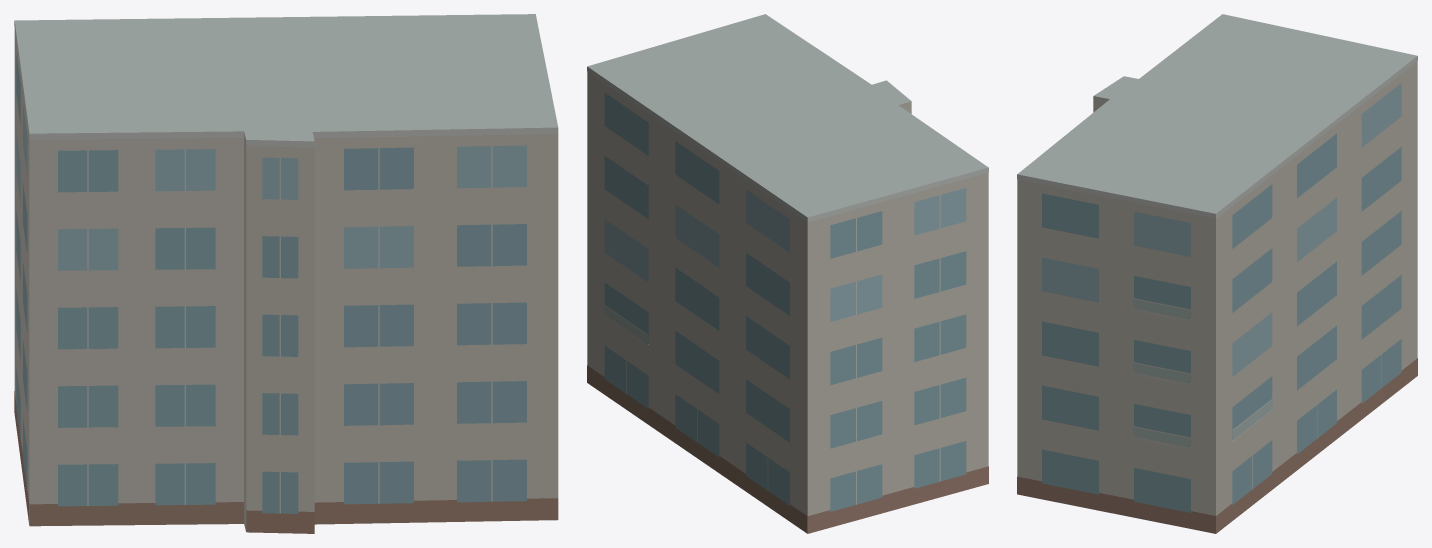
Rendered from survey-upis-32940479.glb.
3 renders of one model, left to right at view 1: azimuth 30°, elevation 25°; view 2: azimuth 150°, elevation 25°; view 3: azimuth 270°, elevation 25°, orthographic. The views are drawn at different scales.
Visible parts, largest first — view 1: survey-upis-32940479.tmp; view 2: survey-upis-32940479.tmp; view 3: survey-upis-32940479.tmp.
Part boxes in pixels (left/top/right/bottom): survey-upis-32940479.tmp: left=14, top=14, right=558, bottom=533; survey-upis-32940479.tmp: left=587, top=14, right=988, bottom=533; survey-upis-32940479.tmp: left=1017, top=14, right=1417, bottom=533.
Bounding box in the file's own units: 20.43 × 15.25 × 17.31.
